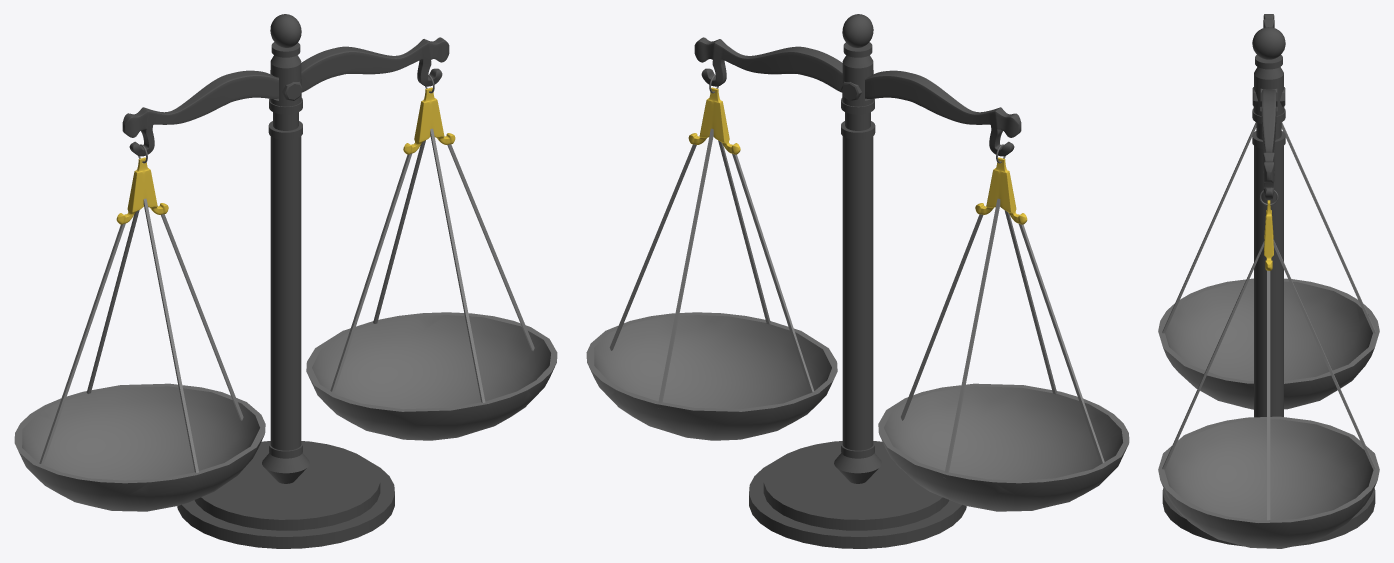
Rendered from scales_of_justice.glb.
The picture shows the model from 3 angles, left to right: view 1: azimuth 30°, elevation 25°; view 2: azimuth 150°, elevation 25°; view 3: azimuth 270°, elevation 25°; orthographic projection. The views are drawn at different scales.
Visible parts, largest first — view 1: Sphere.001, Cylinder, Sphere.002, Cube, Cube.001, Cylinder.001, Sphere; view 2: Sphere.001, Cylinder, Sphere.002, Cube, Cube.001, Cylinder.001, Sphere; view 3: Sphere.001, Cylinder, Sphere.002, Cube, Sphere, Cylinder.001, Cube.001.
Boxes of the visible parts, left/top/right/bottom form: Sphere.001: left=14, top=312, right=557, bottom=511; Cylinder: left=177, top=42, right=394, bottom=548; Sphere.002: left=39, top=128, right=534, bottom=472; Cube: left=122, top=37, right=449, bottom=156; Cube.001: left=116, top=87, right=455, bottom=224; Cylinder.001: left=270, top=63, right=302, bottom=106; Sphere: left=270, top=14, right=301, bottom=47; Sphere.001: left=586, top=312, right=1129, bottom=511; Cylinder: left=749, top=42, right=966, bottom=548; Sphere.002: left=609, top=128, right=1104, bottom=472; Cube: left=694, top=37, right=1021, bottom=156; Cube.001: left=688, top=87, right=1027, bottom=224; Cylinder.001: left=841, top=63, right=873, bottom=106; Sphere: left=842, top=14, right=873, bottom=47; Sphere.001: left=1158, top=278, right=1379, bottom=548; Cylinder: left=1162, top=55, right=1375, bottom=546; Sphere.002: left=1162, top=122, right=1375, bottom=520; Cube: left=1261, top=14, right=1276, bottom=199; Sphere: left=1252, top=27, right=1285, bottom=59; Cylinder.001: left=1252, top=74, right=1285, bottom=115; Cube.001: left=1264, top=200, right=1273, bottom=270.
Size of the model in its own units: 5.13 by 4.63 by 1.96.
